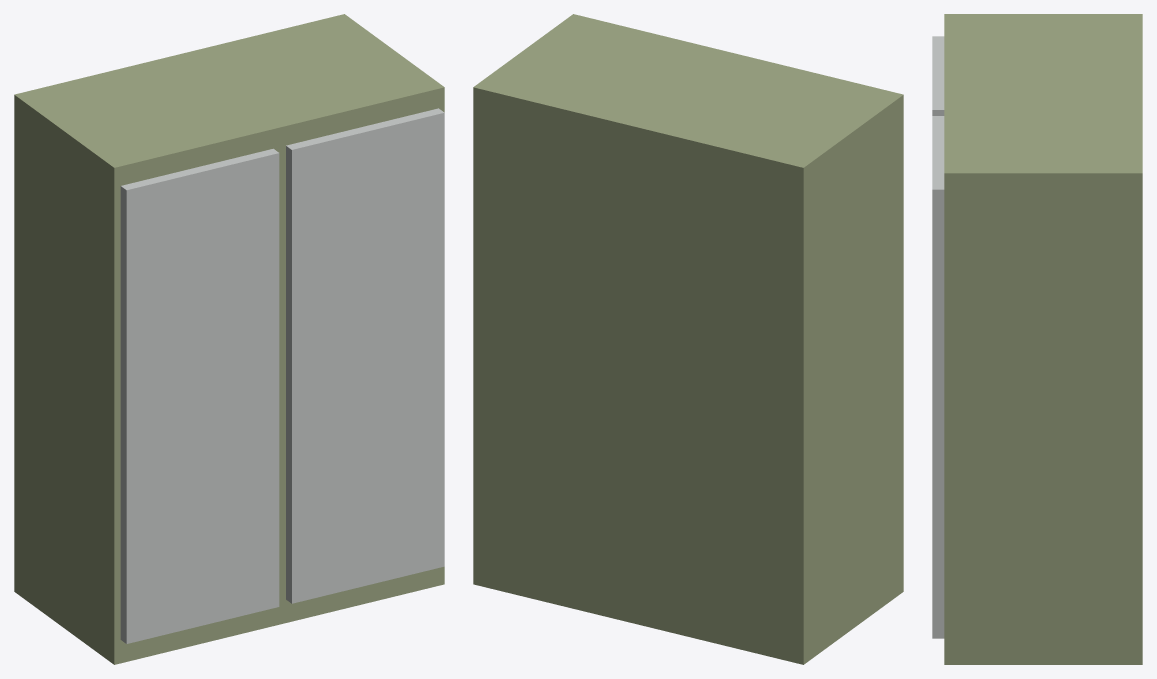
The model's file is cabinet_03.glb.
The picture shows the model from 3 angles, left to right: view 1: azimuth 30°, elevation 25°; view 2: azimuth 150°, elevation 25°; view 3: azimuth 270°, elevation 25°; orthographic projection.
Visible parts, largest first — view 1: body, doorL, doorR; view 2: body; view 3: body, doorR, doorL.
Part boxes in pixels (x1,y1,x2,y2): body: (14,14,444,664); doorL: (120,148,279,643); doorR: (286,108,444,603); body: (473,14,903,664); body: (944,14,1142,664); doorR: (932,116,944,638); doorL: (932,36,944,115).
Bounding box in the file's own units: 0.8 × 1.15 × 0.4455.
